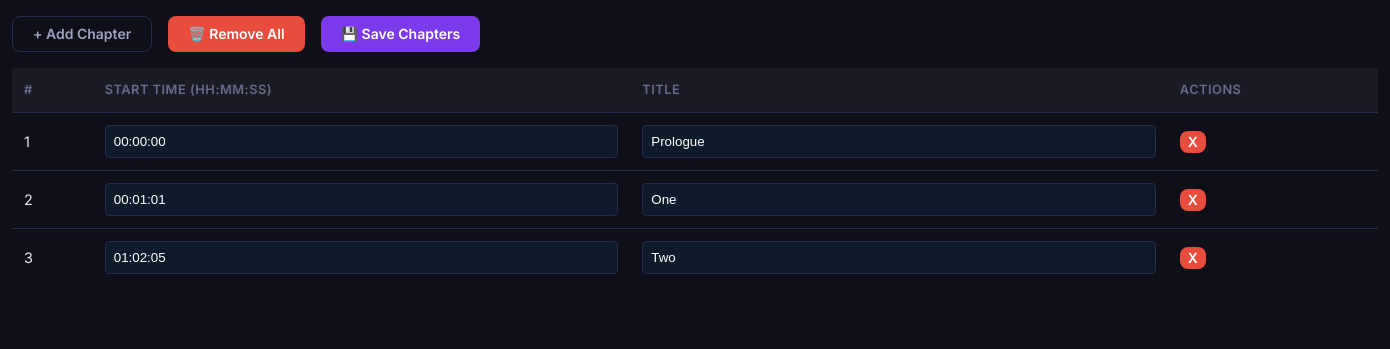
ChapterEditor › adds a chapter five minutes after the last one
Click the button "+ Add Chapter" at (82,34), box [12, 16, 152, 52]
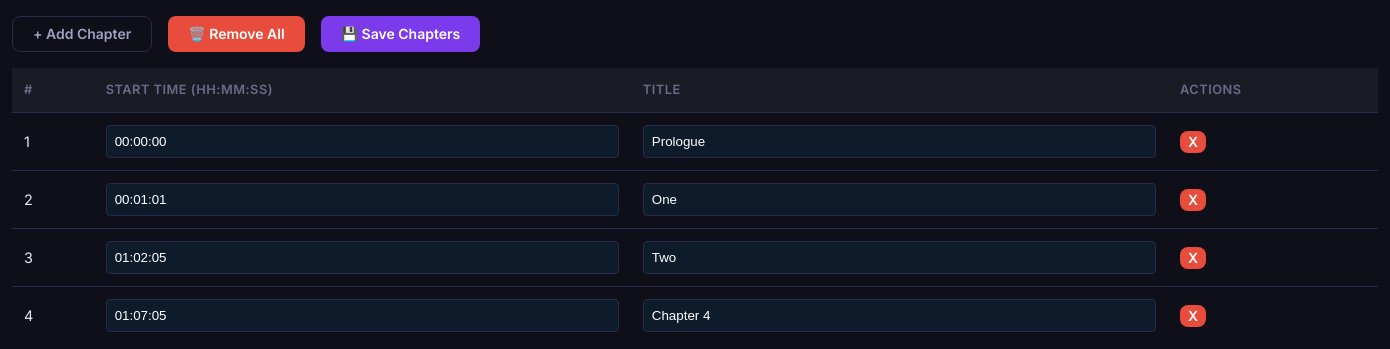
Now the 7th field holds "01:07:05", box [106, 300, 619, 332]
Now the 8th field holds "Chapter 4", box [643, 300, 1156, 332]
